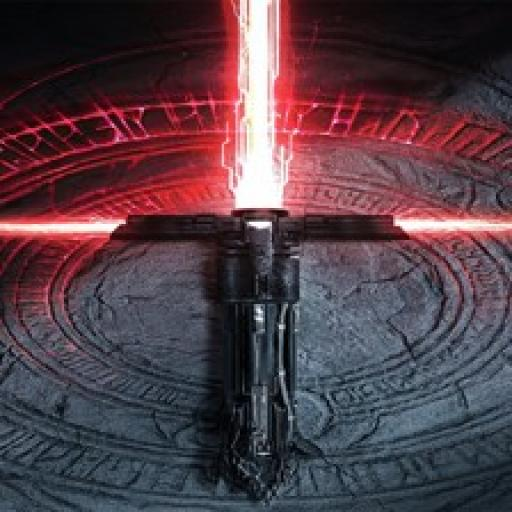sith saber: (3, 1, 512, 512)
